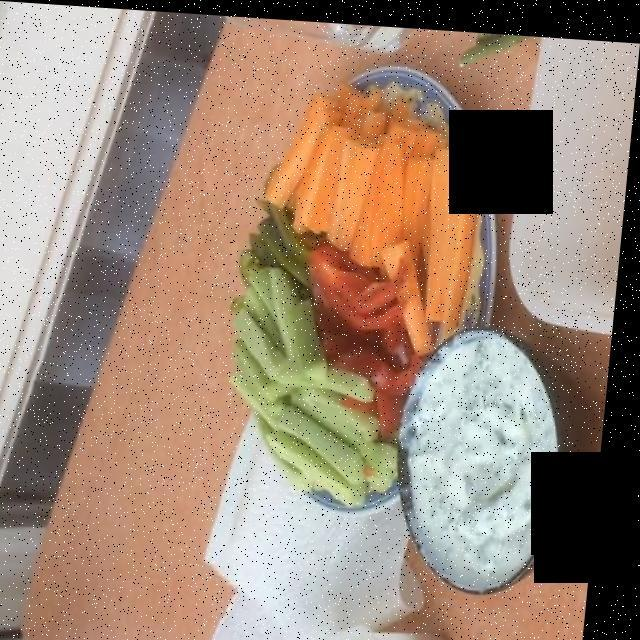bell-pepper: (243, 196, 435, 426)
carrot: (245, 76, 483, 353)
cucumber: (202, 243, 420, 500)
dips: (414, 338, 563, 574)
